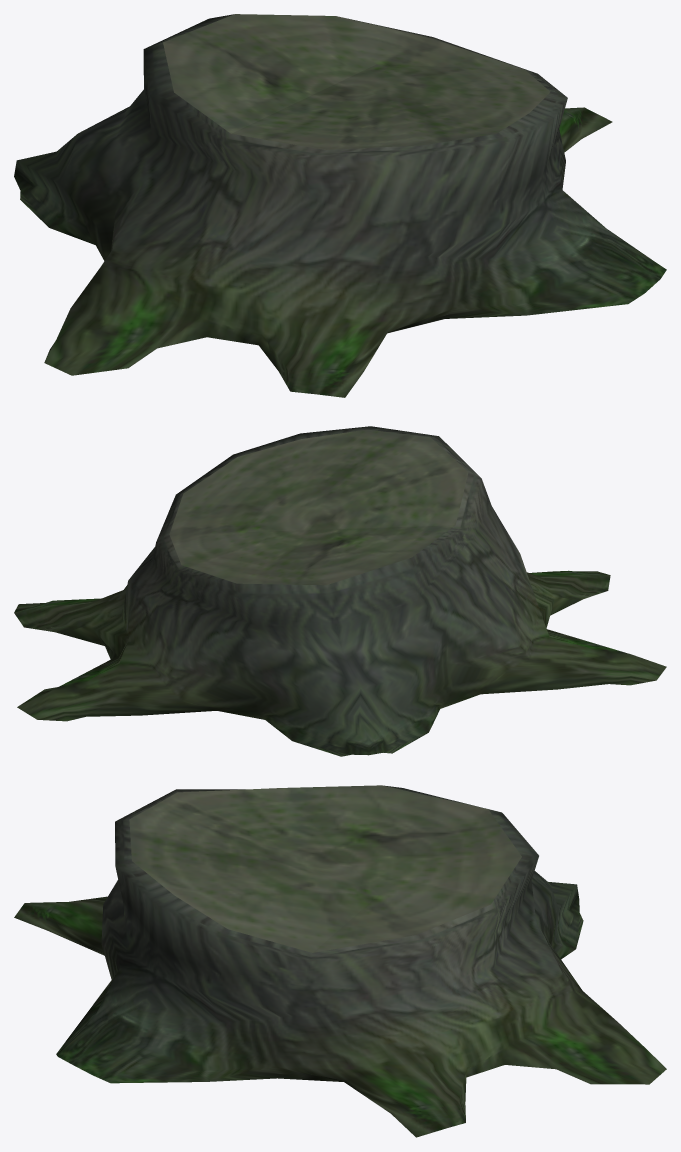
Rendered from Wujian_shuzhuang_001.FBX.
The picture shows the model from 3 angles, top to bottom: view 1: azimuth 30°, elevation 25°; view 2: azimuth 150°, elevation 25°; view 3: azimuth 270°, elevation 25°; orthographic projection. The views are drawn at different scales.
Parts seen in each view (by area): view 1: Wujian_shuzhuang_001; view 2: Wujian_shuzhuang_001; view 3: Wujian_shuzhuang_001.
Boxes of the visible parts, bbox=[...] form: Wujian_shuzhuang_001: bbox=[14, 14, 666, 397]; Wujian_shuzhuang_001: bbox=[14, 426, 666, 756]; Wujian_shuzhuang_001: bbox=[14, 785, 666, 1137].
Bounding box in the file's own units: 288 × 72.87 × 261.
